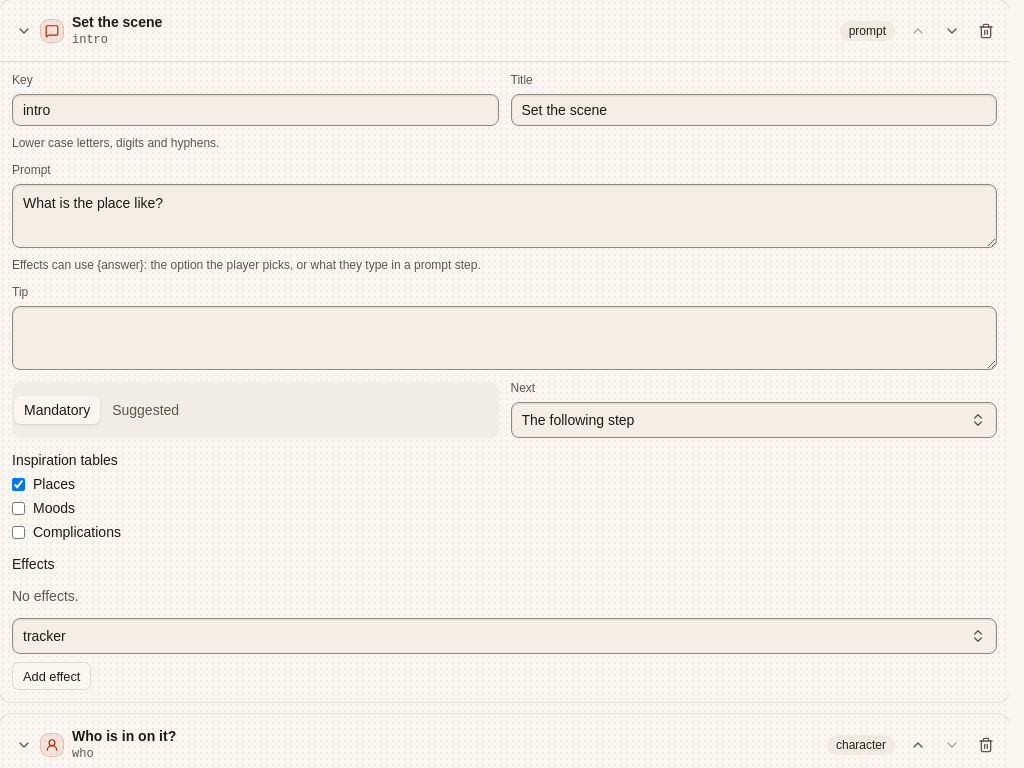
Scenario: the step items › moves a step with icon buttons that keep their names and show them as tooltips
Hover over the button named "Move step 1 down": point(952, 31) 937,16 -> 967,46
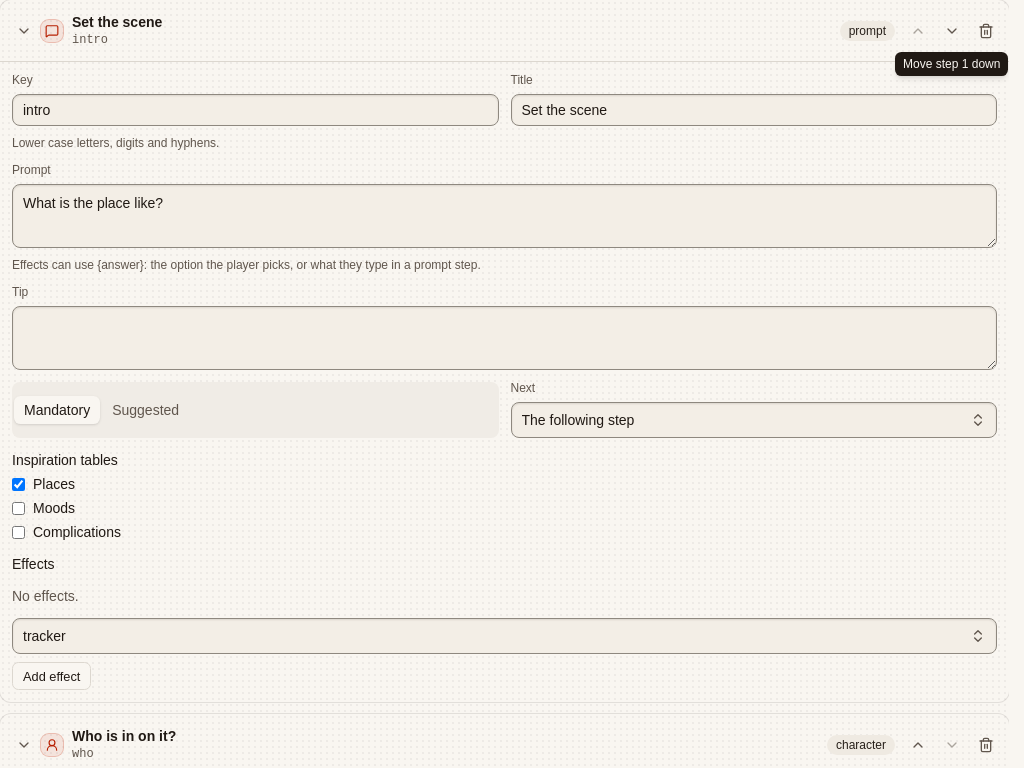
Check: the tooltip reads "Move step 1 down", box 903,57 -> 1000,71
